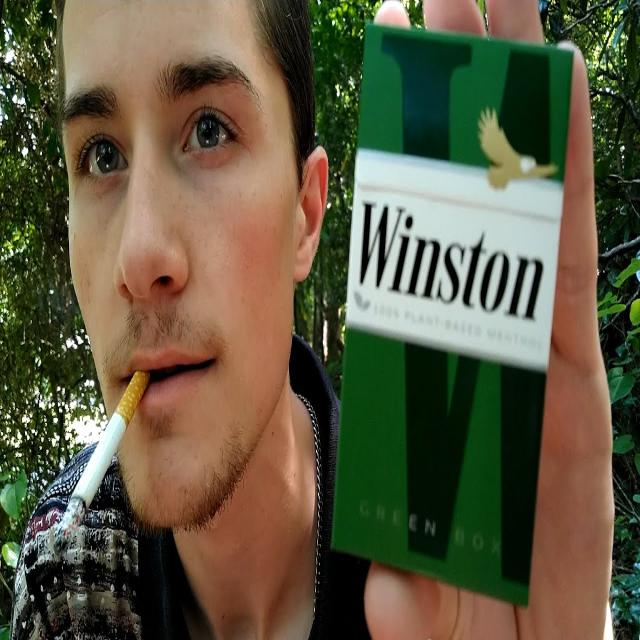winston: (331, 16, 572, 614)
